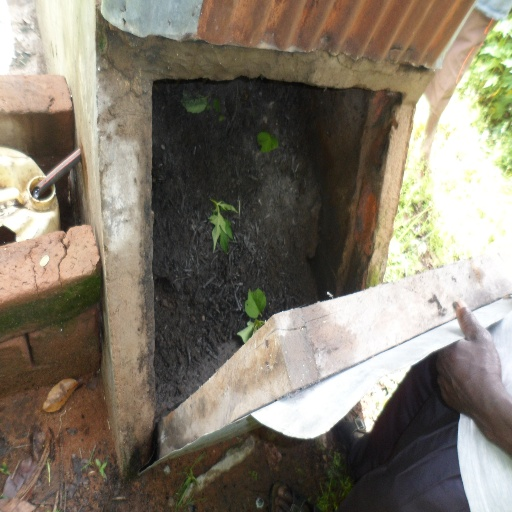hand: (438, 295, 509, 456)
